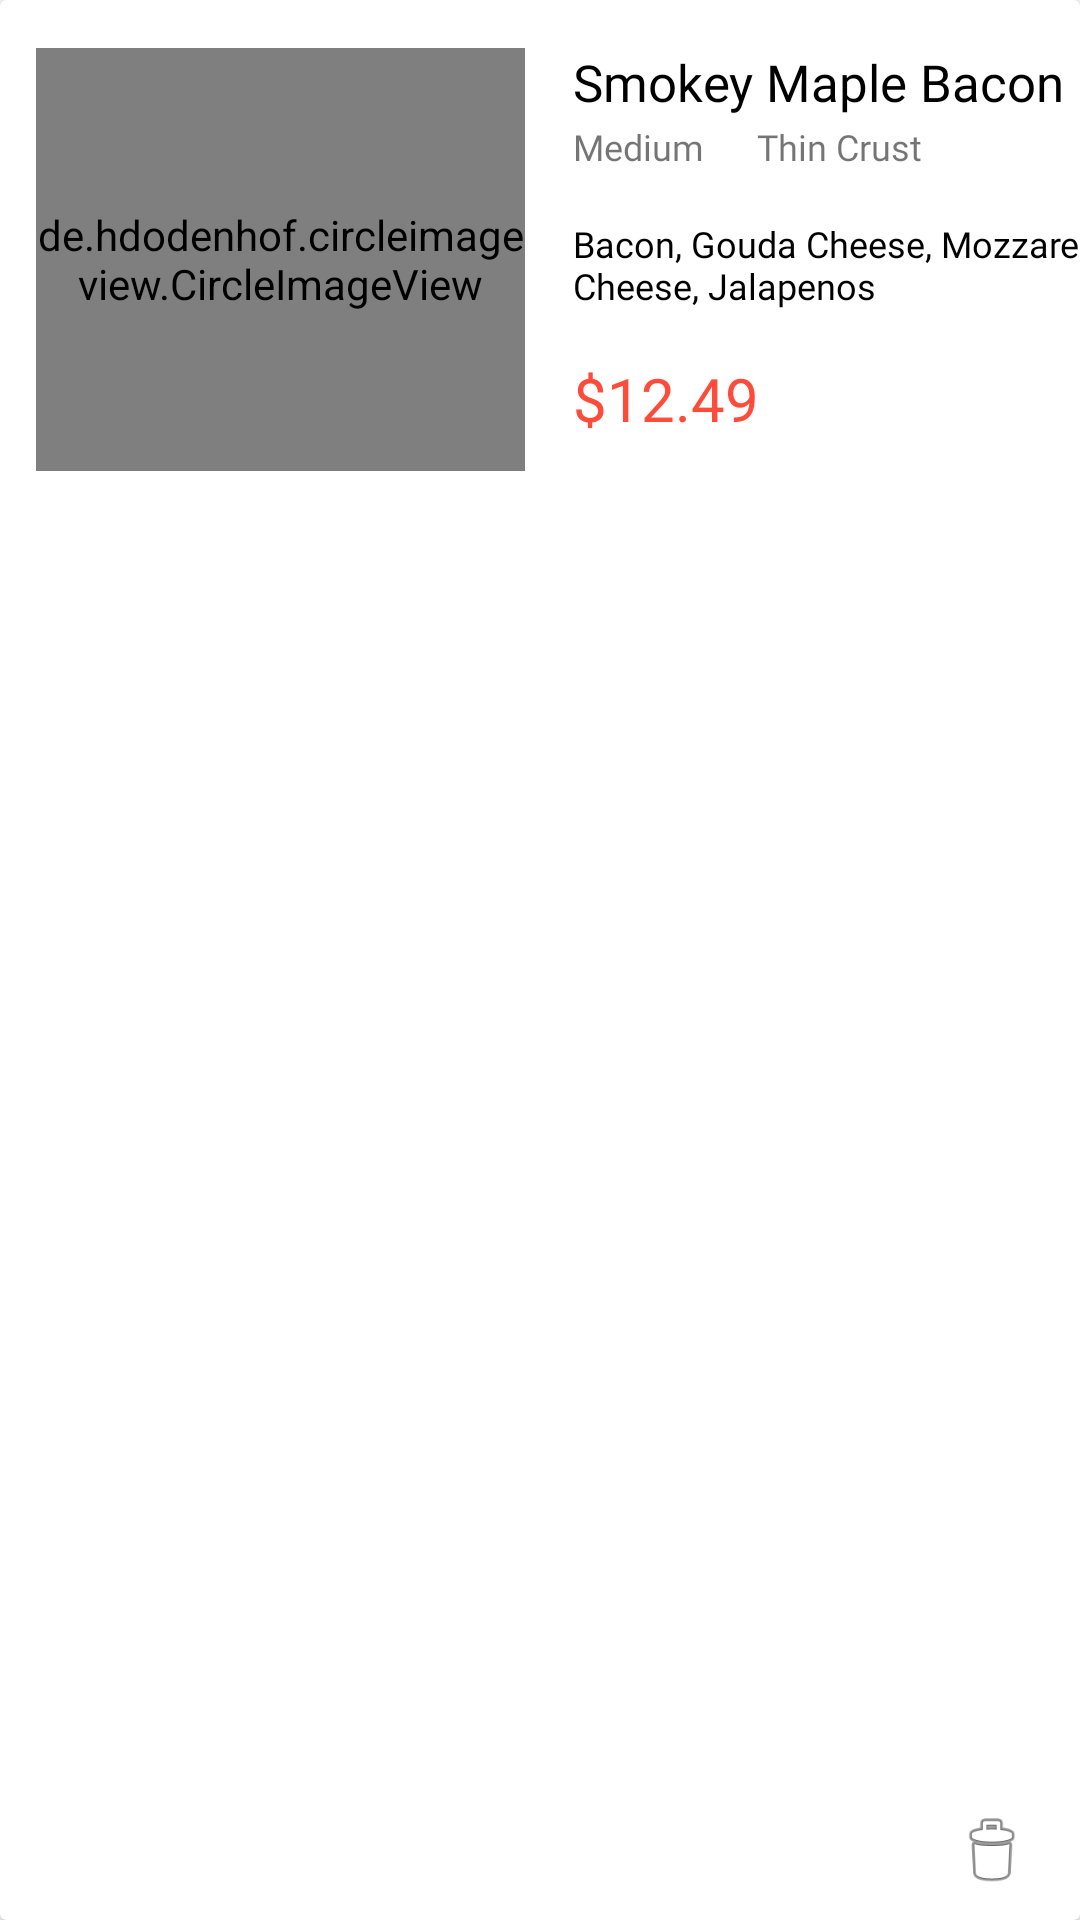

Named icons in this screenshot (1080px×1920px) and their centers, [x,y]:
Remove from cart: [992,1849]
